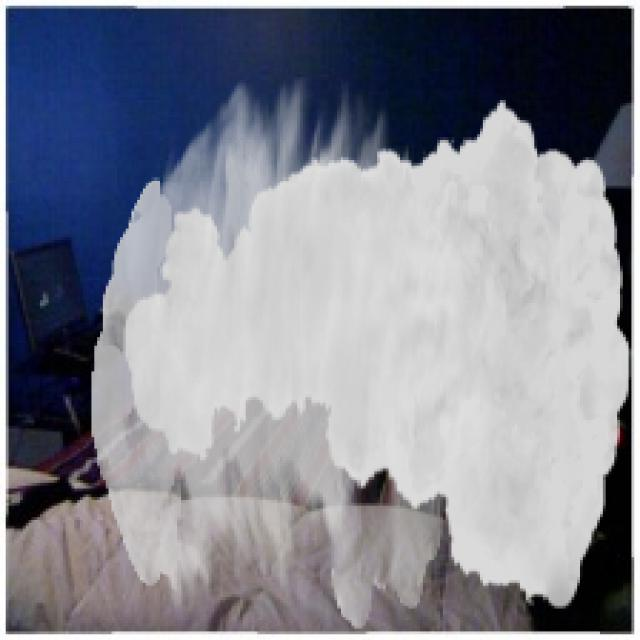smoke: (91, 77, 632, 629)
